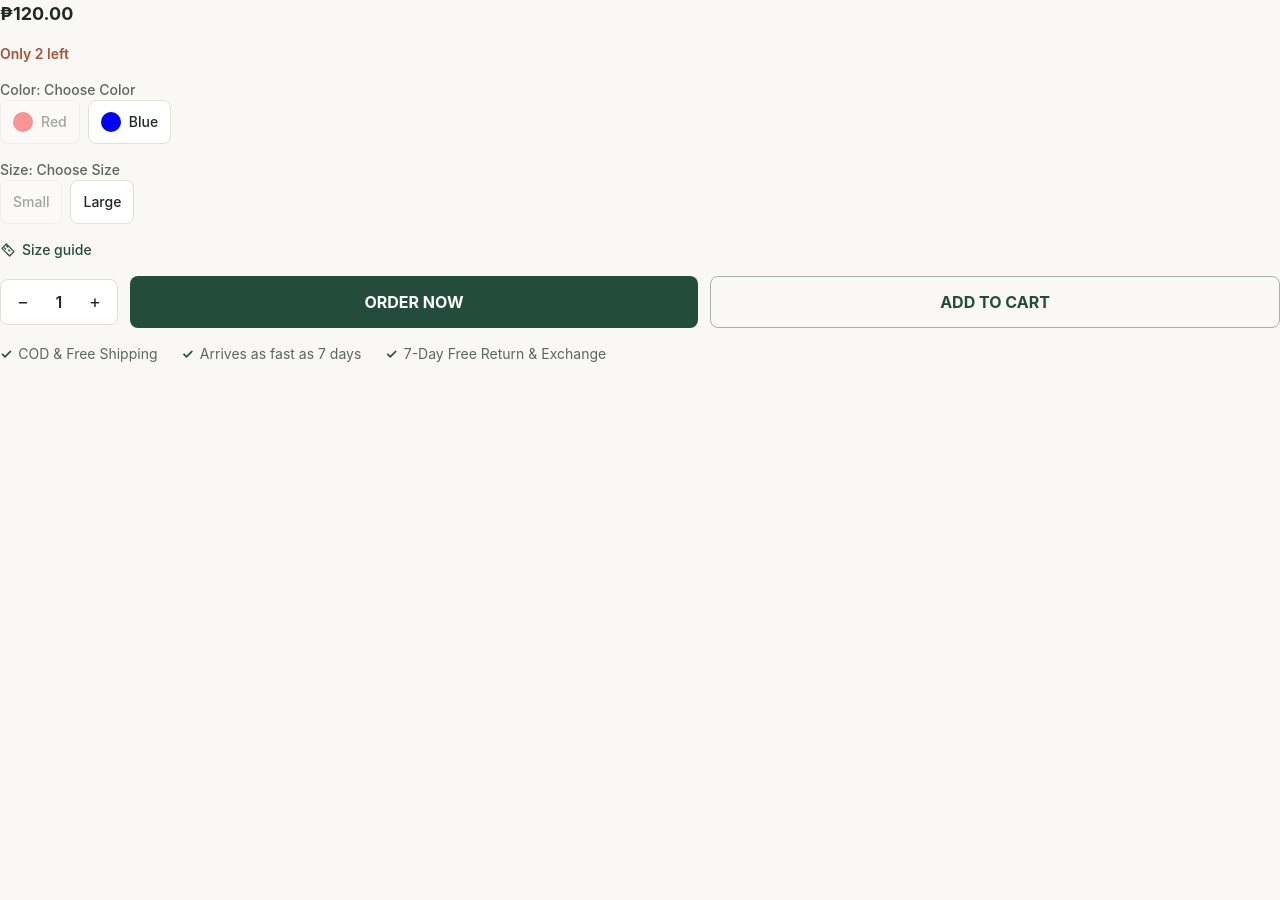
Test: isolated landing purchase presentation › lets the shopper select and confirm the remaining campaign alternative instead of getting stuck in an empty dialog
This screenshot has width=1280, height=900.
Click the button with test id "add-to-cart": (995, 302) [710,276,1279,328]
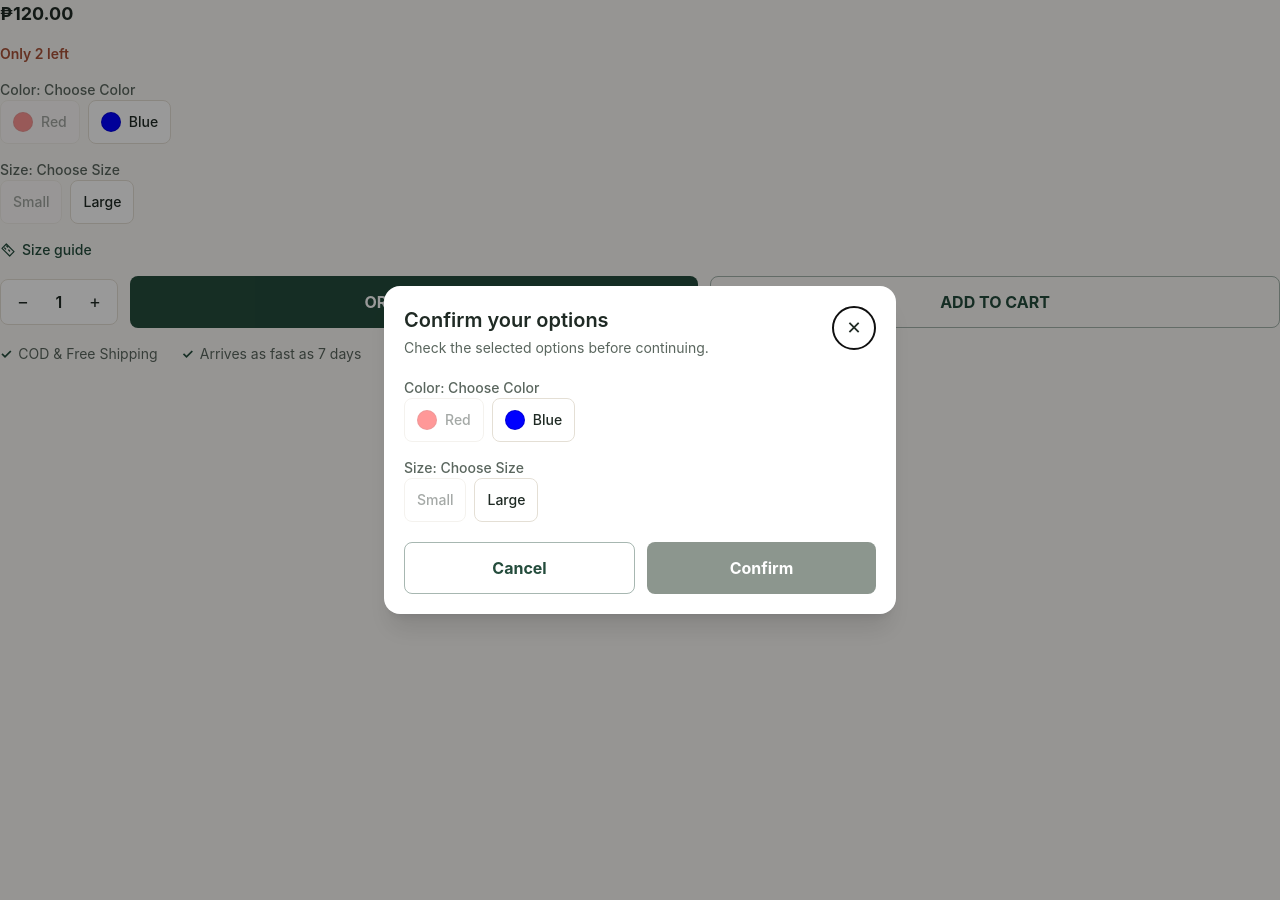
Result: the button "Confirm" is disabled at [647,542,876,594]
Click the button "Blue": (534, 420) [492,398,575,442]
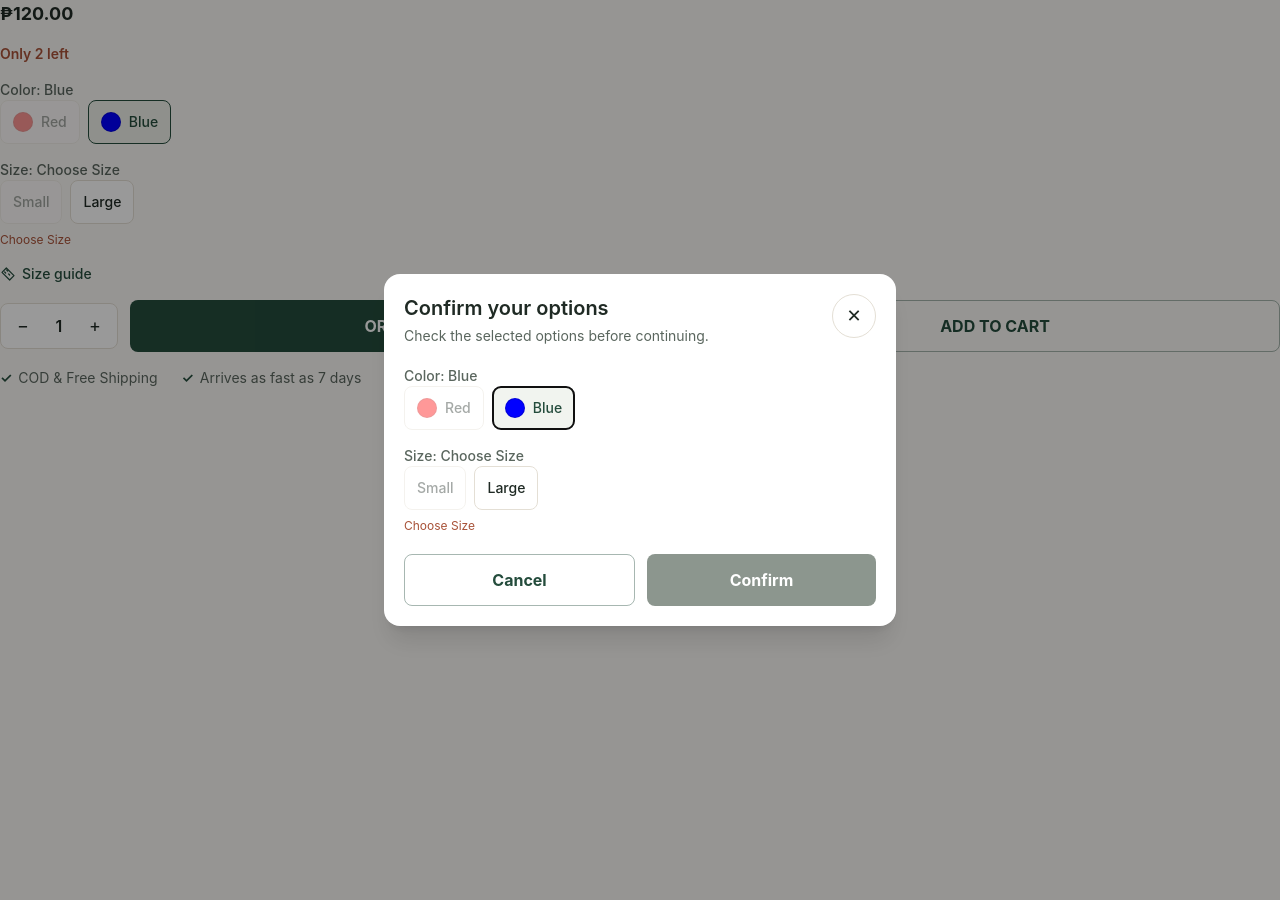
Click the button "Large": (506, 488) [474,466,538,510]
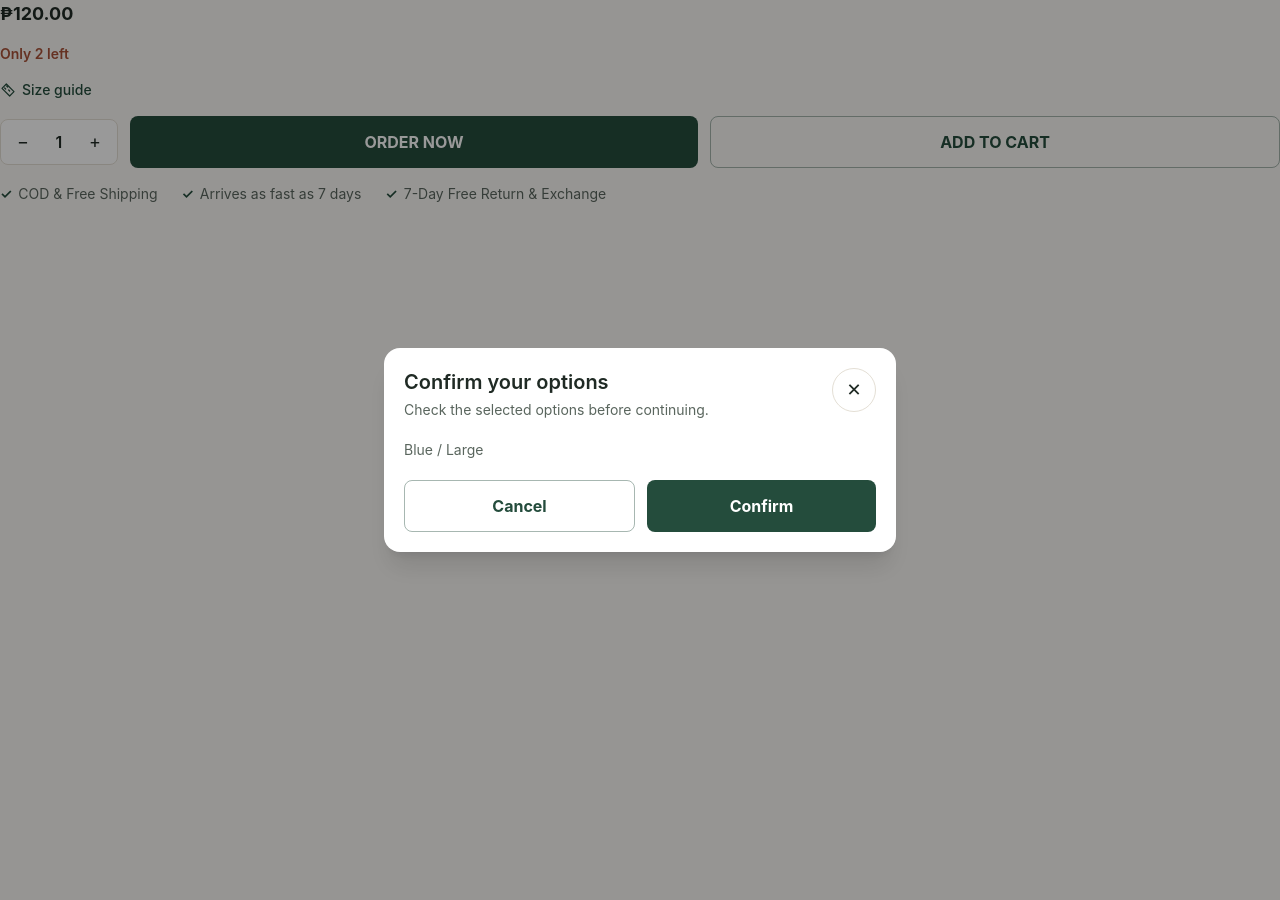
Result: the button "Confirm" is enabled
Click the button "Confirm": (762, 506) [647,480,876,532]
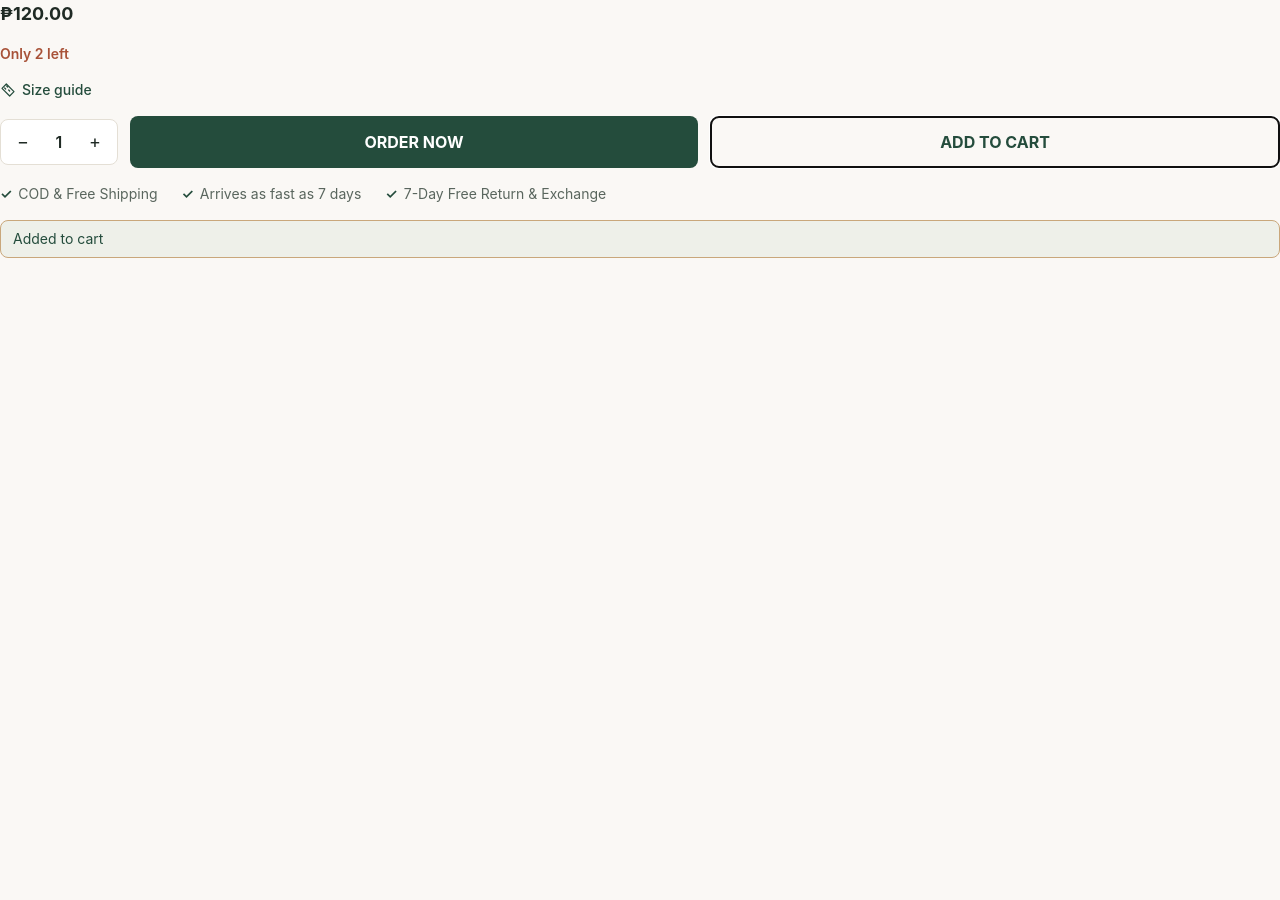
Result: the heading "Confirm your options" is gone
